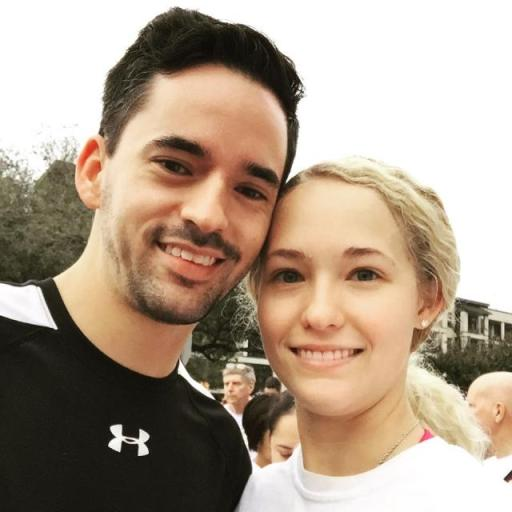Under Armour: (104, 422, 152, 458)
